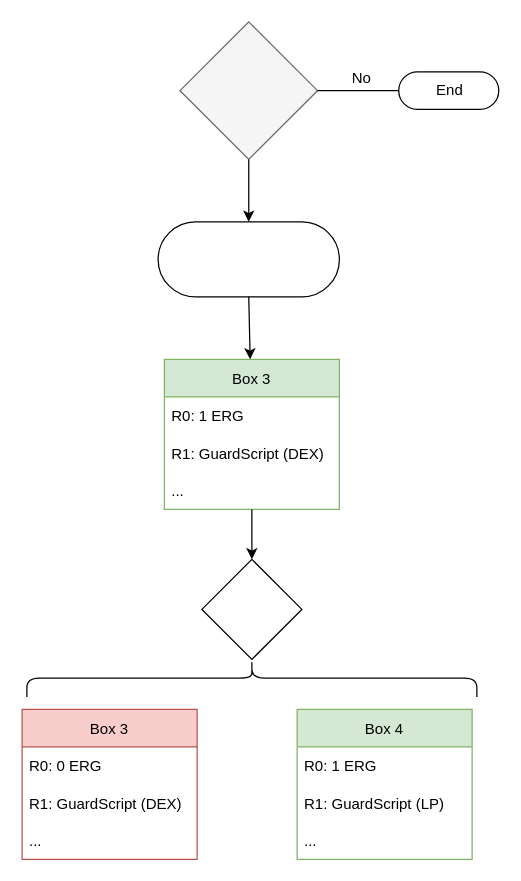
Some shapes in this 521 by 881 pixel diagram are drawn without their labels. The shapes that lost their labels are listed below. From the top down, each one's centre as x and y in pixels, then its label:
At point (248, 90): "Swap cond. met?".
At point (248, 259): "DEX bots initiate swap".
